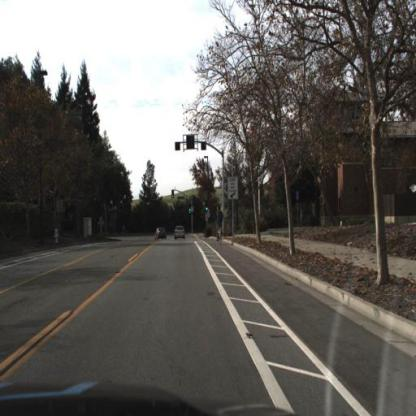biker: (216, 206, 225, 245)
car: (154, 228, 166, 242), (155, 229, 167, 243), (174, 225, 186, 239)
trafficLight: (189, 205, 194, 215)
trafficLight-Green: (206, 201, 210, 214), (206, 202, 210, 214)
trafficLight-GreenLeft: (172, 189, 177, 200), (172, 190, 177, 200)
